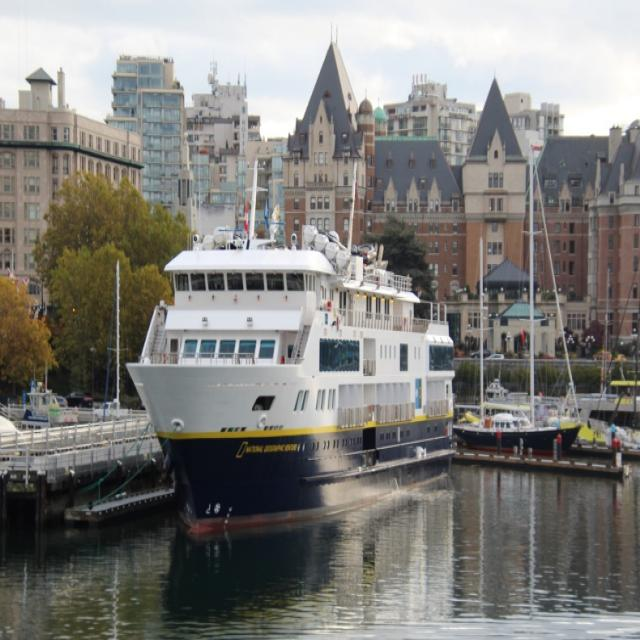cruises: (118, 159, 465, 545)
